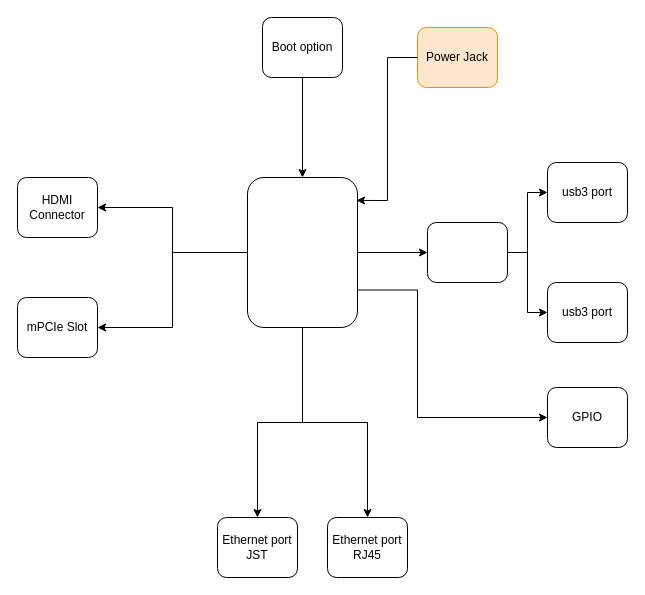
This 645x595 diagram has some shape labels left out. The shapes that lost their labels are listed below. From the top down, each one's centre as x and y in pixels, then its label:
point (302, 252): i.MX8
point (467, 252): usb hub
